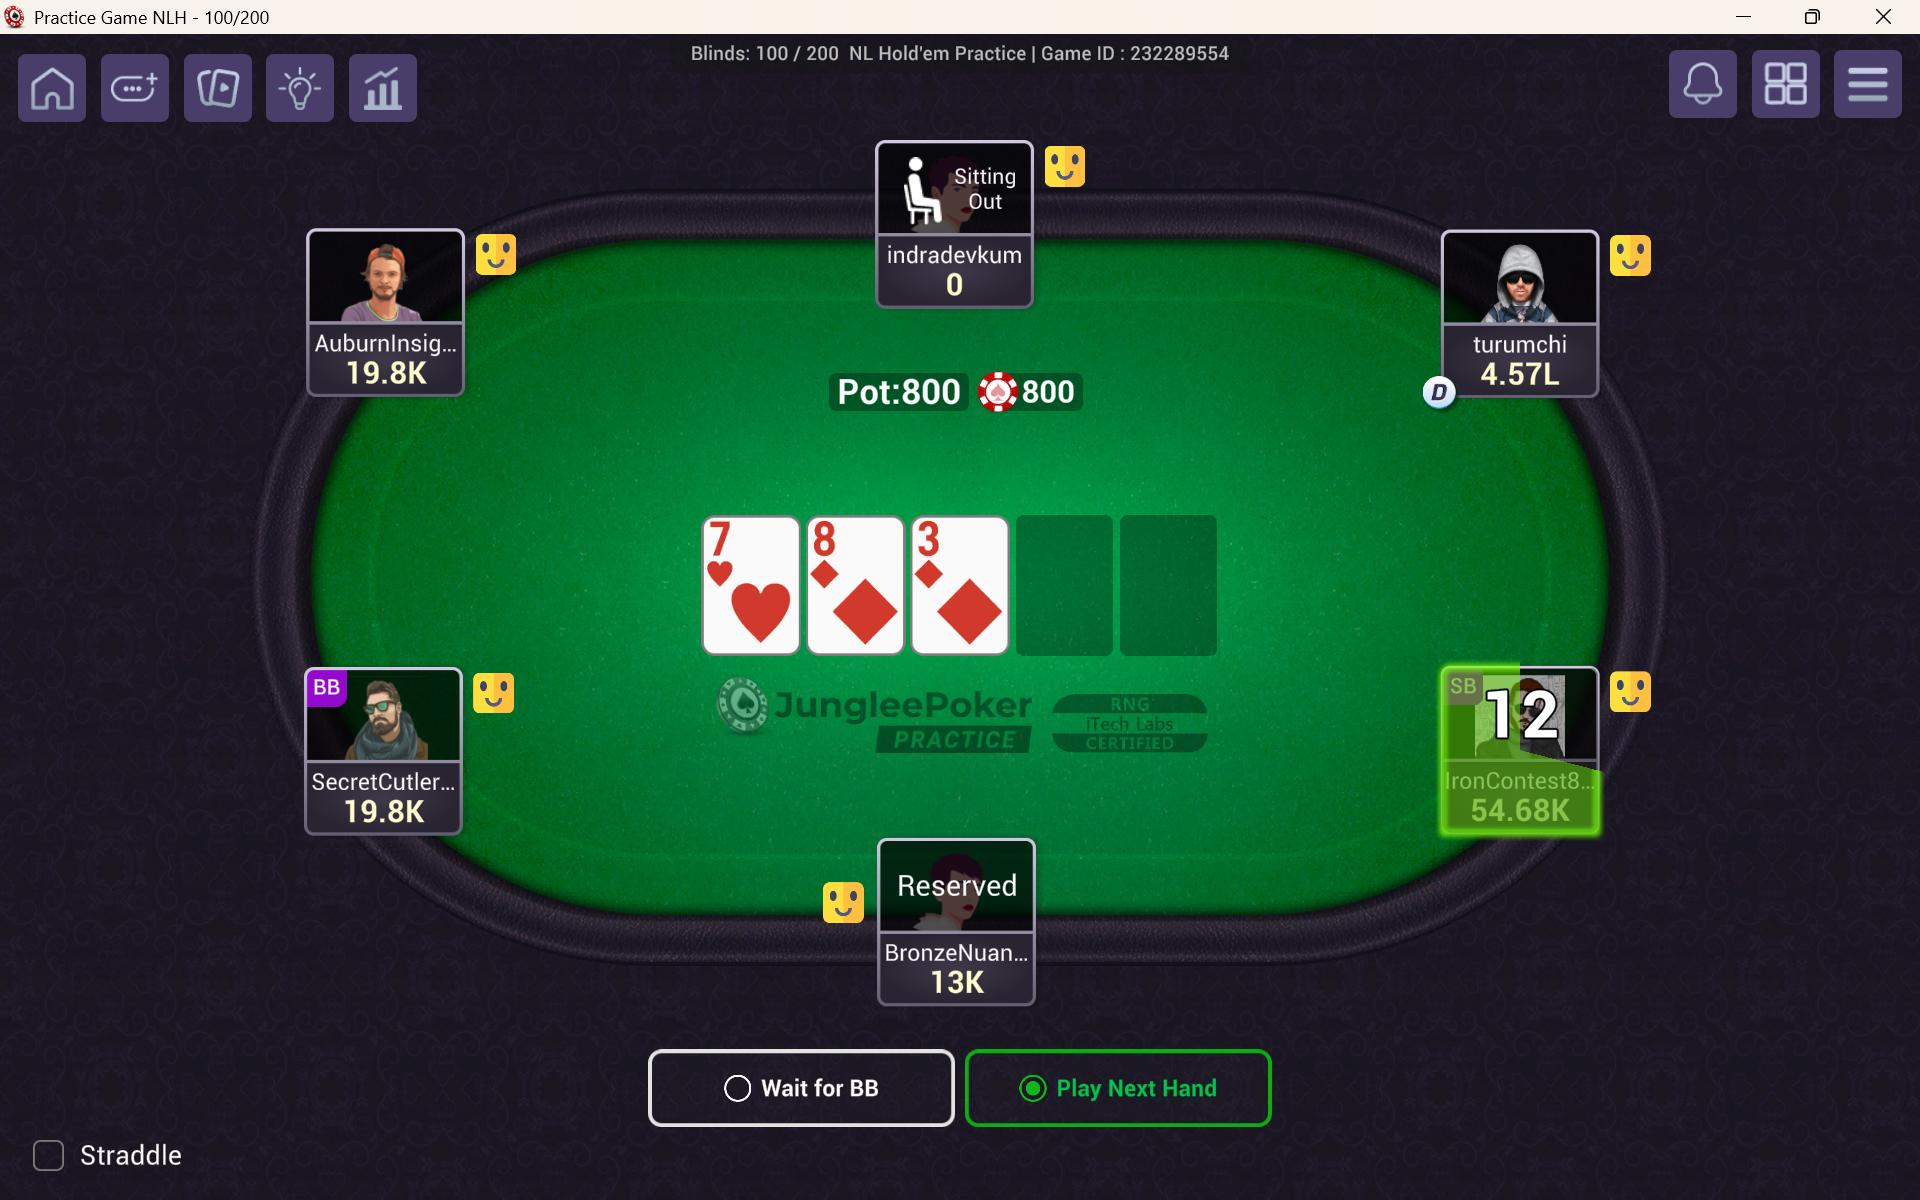flop1_rank: (705, 516, 757, 560)
flop1_suite_heart: (720, 575, 800, 655)
flop2_rank: (804, 517, 857, 563)
flop2_suite_diamond: (835, 582, 905, 650)
flop3_rank: (912, 516, 955, 565)
flop3_suite_diamond: (930, 581, 1012, 653)
my_stack: (912, 965, 1005, 1008)
total_pot: (828, 365, 1088, 415)
villian1_name: (305, 760, 460, 798)
villian1_stack: (335, 798, 433, 829)
villian2_name: (307, 318, 463, 359)
villian2_stack: (340, 353, 452, 390)
villian4_name: (1444, 328, 1592, 355)
villian4_stack: (1462, 353, 1573, 390)
villian5_name: (1438, 763, 1598, 798)
villian5_stack: (1453, 795, 1587, 838)
